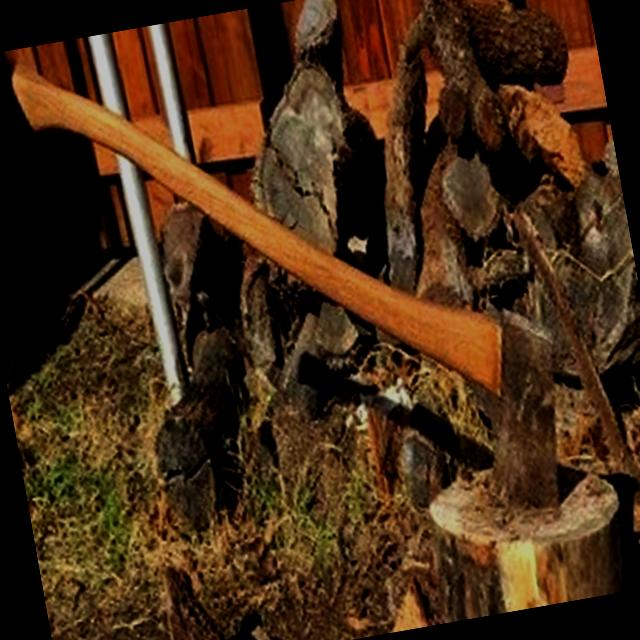ax: (0, 0, 599, 617)
